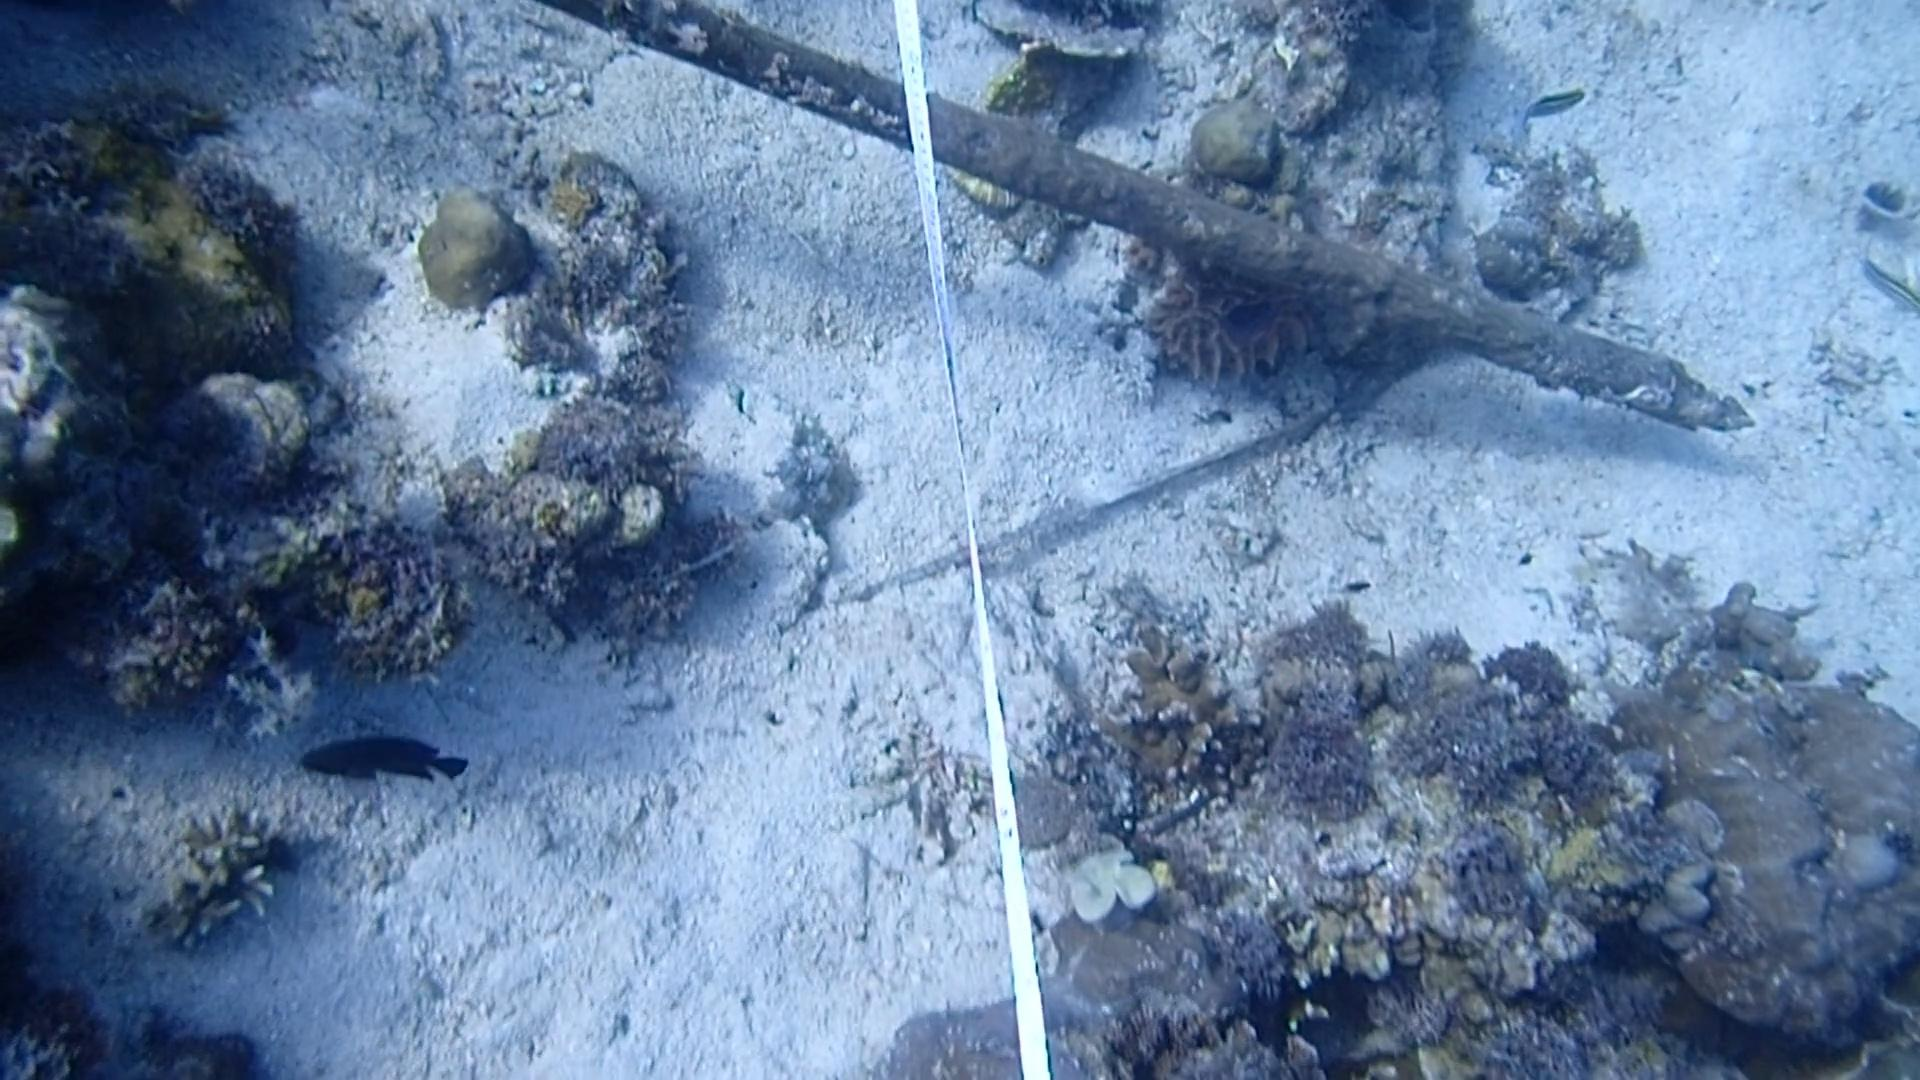Dark Fish: (295, 723, 479, 798)
Striped Fish: (1503, 74, 1590, 145), (1846, 236, 1920, 319)
